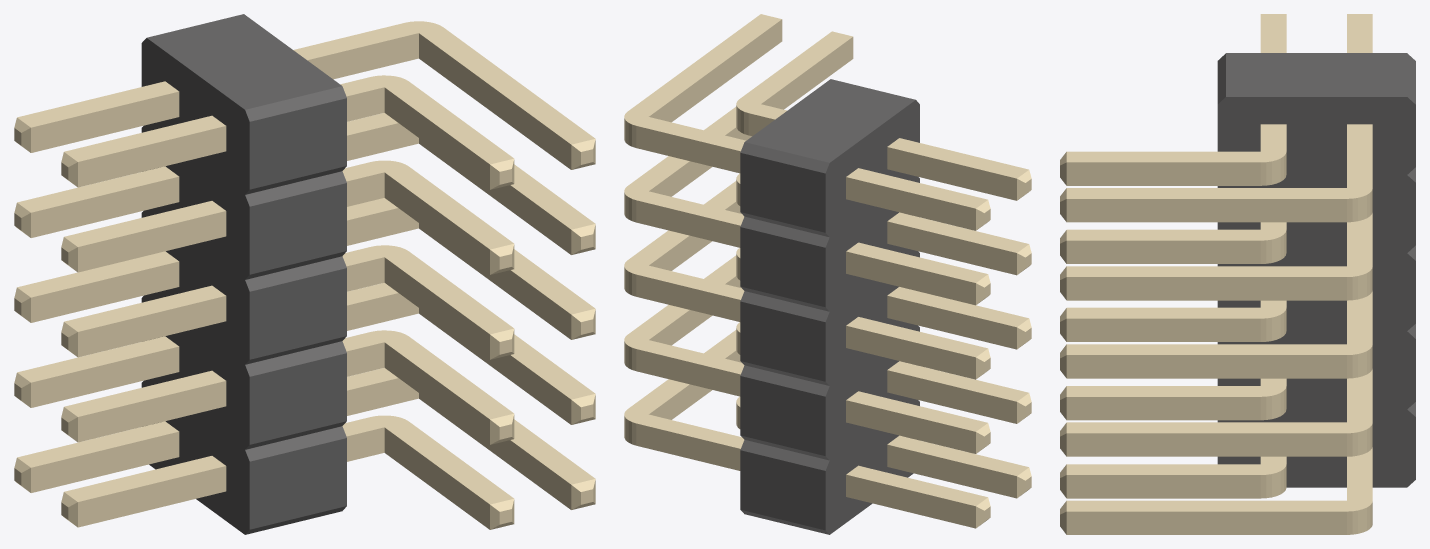
File: PinHeader_2x05_P1.00mm_Horizontal.glb
3 renders of one model, left to right at view 1: azimuth 30°, elevation 25°; view 2: azimuth 150°, elevation 25°; view 3: azimuth 270°, elevation 25°, orthographic. The views are drawn at different scales.
Parts seen in each view (by area): view 1: Shape_IndexedFaceSet.004, Shape_IndexedFaceSet.001, Shape_IndexedFaceSet.022, Shape_IndexedFaceSet.016, Shape_IndexedFaceSet.028, Shape_IndexedFaceSet.010, Shape_IndexedFaceSet.002, Shape_IndexedFaceSet.059, Shape_IndexedFaceSet.147, Shape_IndexedFaceSet.080, Shape_IndexedFaceSet.091, Shape_IndexedFaceSet.104 (+50 smaller); view 2: Shape_IndexedFaceSet.004, Shape_IndexedFaceSet.001, Shape_IndexedFaceSet.019, Shape_IndexedFaceSet.031, Shape_IndexedFaceSet.013, Shape_IndexedFaceSet.025, Shape_IndexedFaceSet.007, Shape_IndexedFaceSet.059, Shape_IndexedFaceSet.078, Shape_IndexedFaceSet.093, Shape_IndexedFaceSet.102, Shape_IndexedFaceSet.108 (+37 smaller); view 3: Shape_IndexedFaceSet.003, Shape_IndexedFaceSet.001, Shape_IndexedFaceSet.116, Shape_IndexedFaceSet.130, Shape_IndexedFaceSet.150, Shape_IndexedFaceSet.145, Shape_IndexedFaceSet.156, Shape_IndexedFaceSet.059, Shape_IndexedFaceSet.069, Shape_IndexedFaceSet.037, Shape_IndexedFaceSet.135, Shape_IndexedFaceSet.160 (+22 smaller).
Boxes of the visible parts, box(x1,y1,x2,y2) form: Shape_IndexedFaceSet.004: box(141, 38, 249, 534); Shape_IndexedFaceSet.001: box(147, 14, 341, 109); Shape_IndexedFaceSet.022: box(249, 353, 346, 444); Shape_IndexedFaceSet.016: box(249, 268, 346, 359); Shape_IndexedFaceSet.028: box(249, 438, 346, 529); Shape_IndexedFaceSet.010: box(249, 183, 346, 274); Shape_IndexedFaceSet.002: box(249, 98, 346, 189); Shape_IndexedFaceSet.059: box(293, 21, 595, 144); Shape_IndexedFaceSet.147: box(419, 33, 571, 169); Shape_IndexedFaceSet.080: box(78, 381, 226, 442); Shape_IndexedFaceSet.091: box(78, 126, 226, 187); Shape_IndexedFaceSet.104: box(31, 176, 179, 237); Shape_IndexedFaceSet.004: box(825, 100, 919, 534); Shape_IndexedFaceSet.001: box(745, 79, 915, 162); Shape_IndexedFaceSet.019: box(740, 301, 825, 381); Shape_IndexedFaceSet.031: box(740, 450, 825, 530); Shape_IndexedFaceSet.013: box(740, 227, 825, 307); Shape_IndexedFaceSet.025: box(740, 376, 825, 455); Shape_IndexedFaceSet.007: box(740, 153, 825, 232); Shape_IndexedFaceSet.059: box(624, 14, 781, 151); Shape_IndexedFaceSet.078: box(887, 370, 1016, 423); Shape_IndexedFaceSet.093: box(887, 147, 1016, 200); Shape_IndexedFaceSet.102: box(846, 251, 975, 305); Shape_IndexedFaceSet.108: box(846, 474, 975, 528); Shape_IndexedFaceSet.003: box(1217, 97, 1415, 487); Shape_IndexedFaceSet.001: box(1226, 53, 1407, 96); Shape_IndexedFaceSet.116: box(1066, 433, 1346, 456); Shape_IndexedFaceSet.130: box(1066, 355, 1346, 378); Shape_IndexedFaceSet.150: box(1066, 277, 1346, 300); Shape_IndexedFaceSet.145: box(1066, 199, 1346, 222); Shape_IndexedFaceSet.156: box(1066, 511, 1346, 534); Shape_IndexedFaceSet.059: box(1066, 124, 1372, 198); Shape_IndexedFaceSet.069: box(1066, 447, 1372, 511); Shape_IndexedFaceSet.037: box(1066, 369, 1372, 433); Shape_IndexedFaceSet.135: box(1066, 162, 1260, 185); Shape_IndexedFaceSet.160: box(1066, 475, 1260, 498).
Size of the model in its own units: 2.03 by 1.97 by 1.62.
